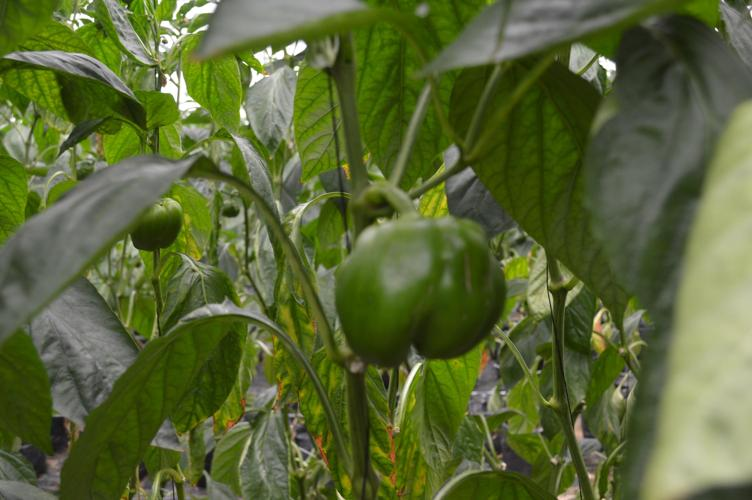BellPepper: (326, 219, 510, 366), (116, 199, 183, 253)
